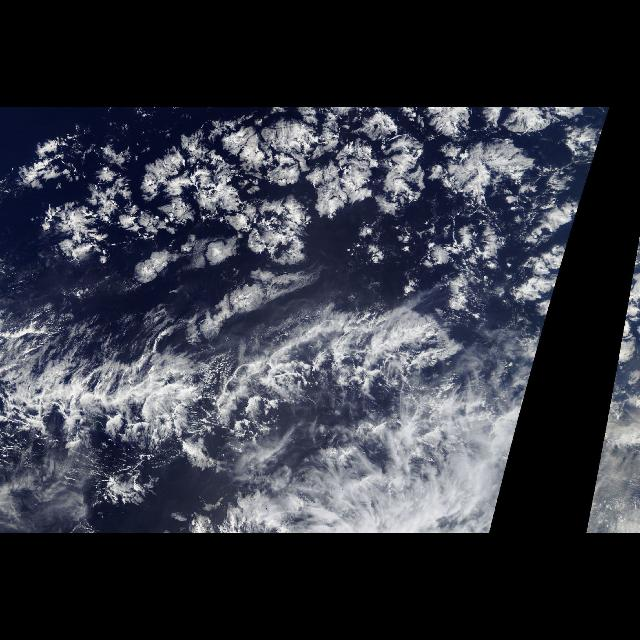Fish: (0, 301, 472, 461)
Flower: (16, 107, 608, 305)
